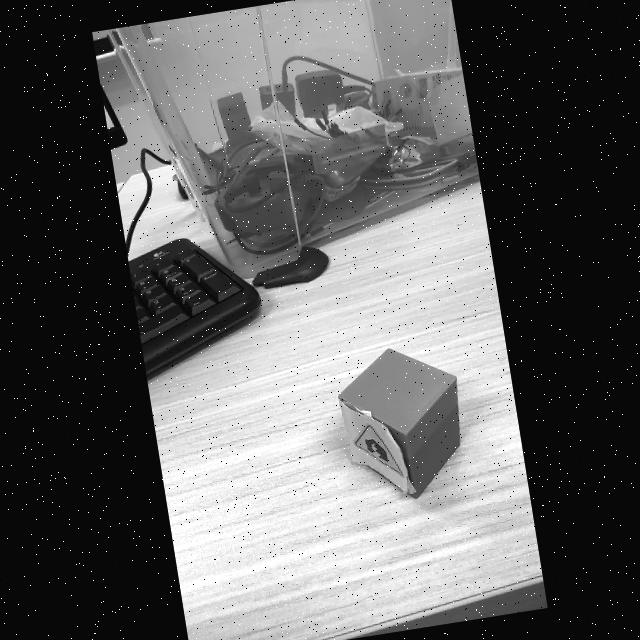Earthquake: (355, 425, 402, 476)
